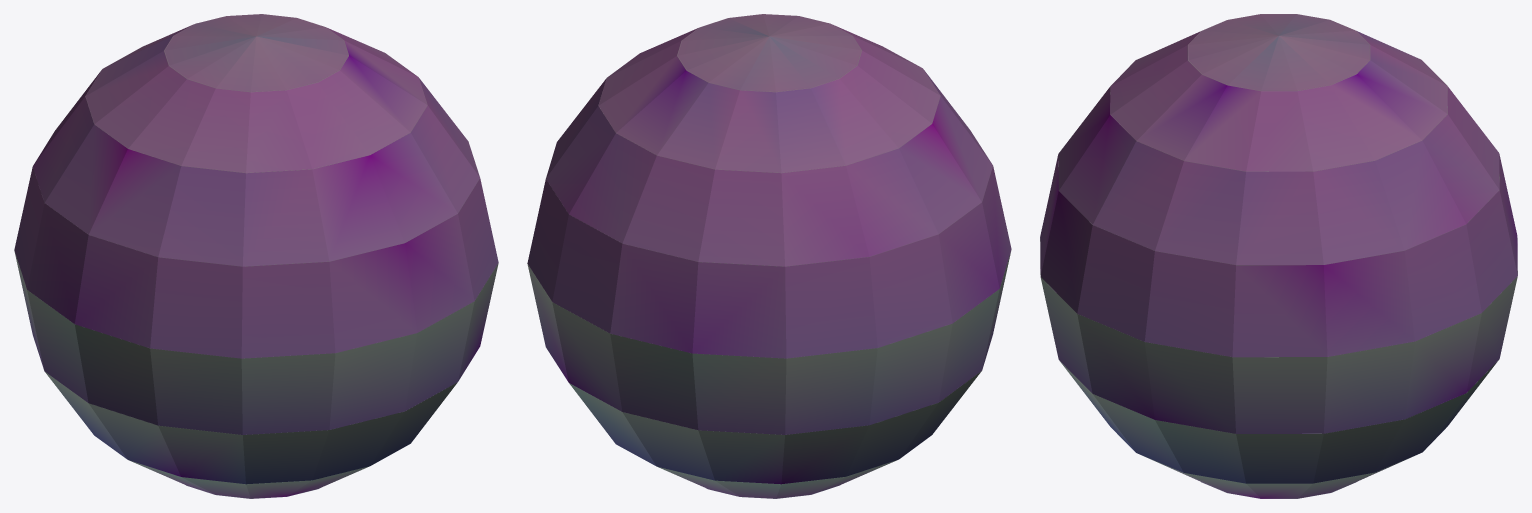
The picture shows the model from 3 angles, left to right: view 1: azimuth 30°, elevation 25°; view 2: azimuth 150°, elevation 25°; view 3: azimuth 270°, elevation 25°; orthographic projection.
Visible parts, largest first — view 1: latitude; view 2: latitude; view 3: latitude.
Boxes of the visible parts, x1,y1,x2,y2 form: latitude: [14, 14, 498, 498]; latitude: [527, 14, 1011, 498]; latitude: [1040, 14, 1517, 498].
Bounding box in the file's own units: 0.2945 × 0.3 × 0.2945.
